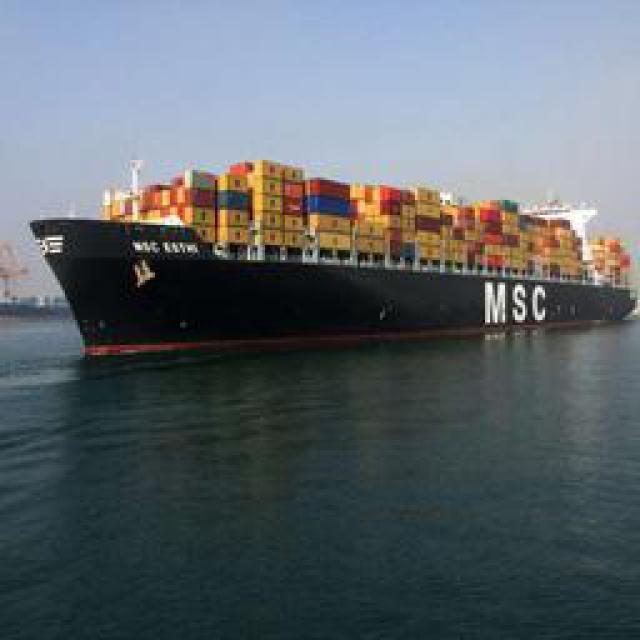Ship: (18, 206, 633, 364)
